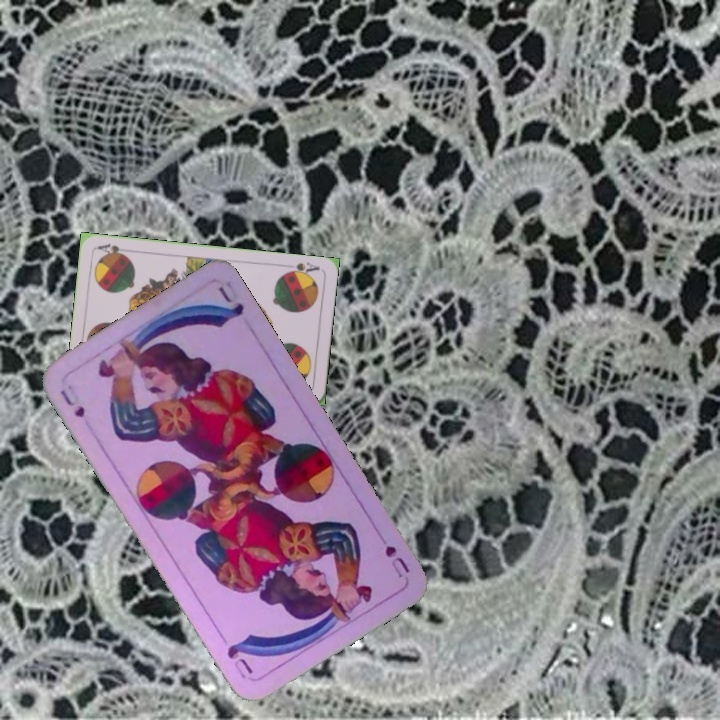SA: (281, 258, 322, 278)
SU: (380, 541, 412, 581), (56, 385, 88, 421)
